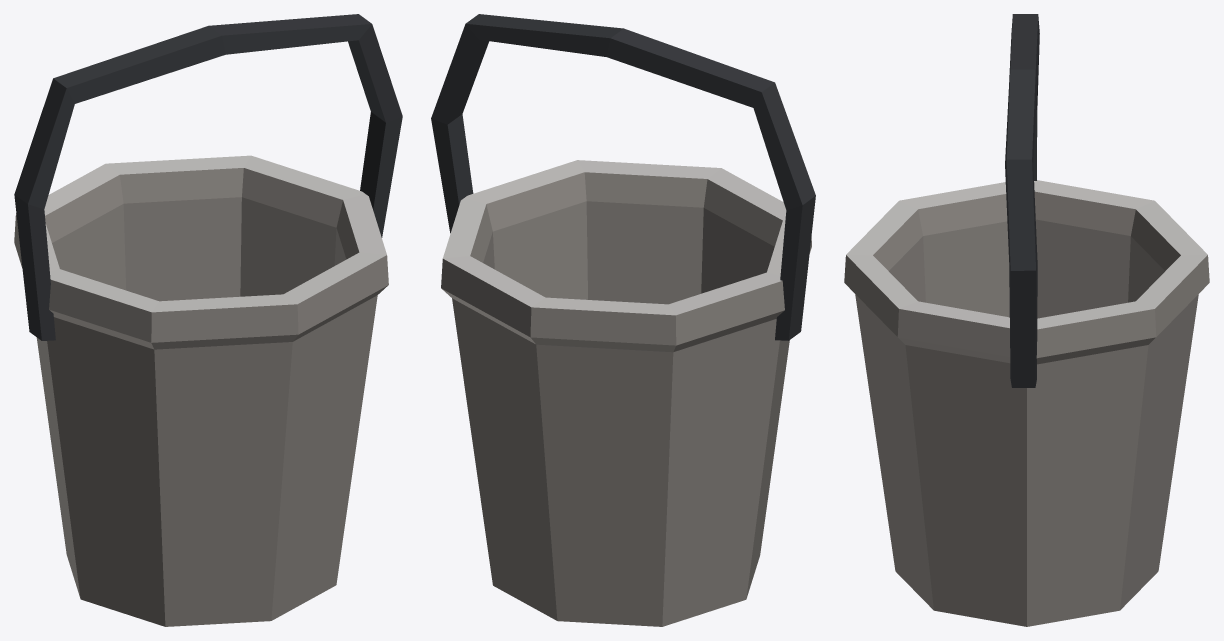
Rendered from SM_Prop_Bucket_01.fbx.
3 renders of one model, left to right at view 1: azimuth 30°, elevation 25°; view 2: azimuth 150°, elevation 25°; view 3: azimuth 270°, elevation 25°, orthographic. The views are drawn at different scales.
Parts seen in each view (by area): view 1: SM_Prop_Bucket_01; view 2: SM_Prop_Bucket_01; view 3: SM_Prop_Bucket_01.
Boxes of the visible parts, <box> form: SM_Prop_Bucket_01: <box>14,14,402,626</box>; SM_Prop_Bucket_01: <box>431,14,815,626</box>; SM_Prop_Bucket_01: <box>844,14,1209,626</box>.
Bounding box in the file's own units: 39.3 × 53.85 × 35.2.
